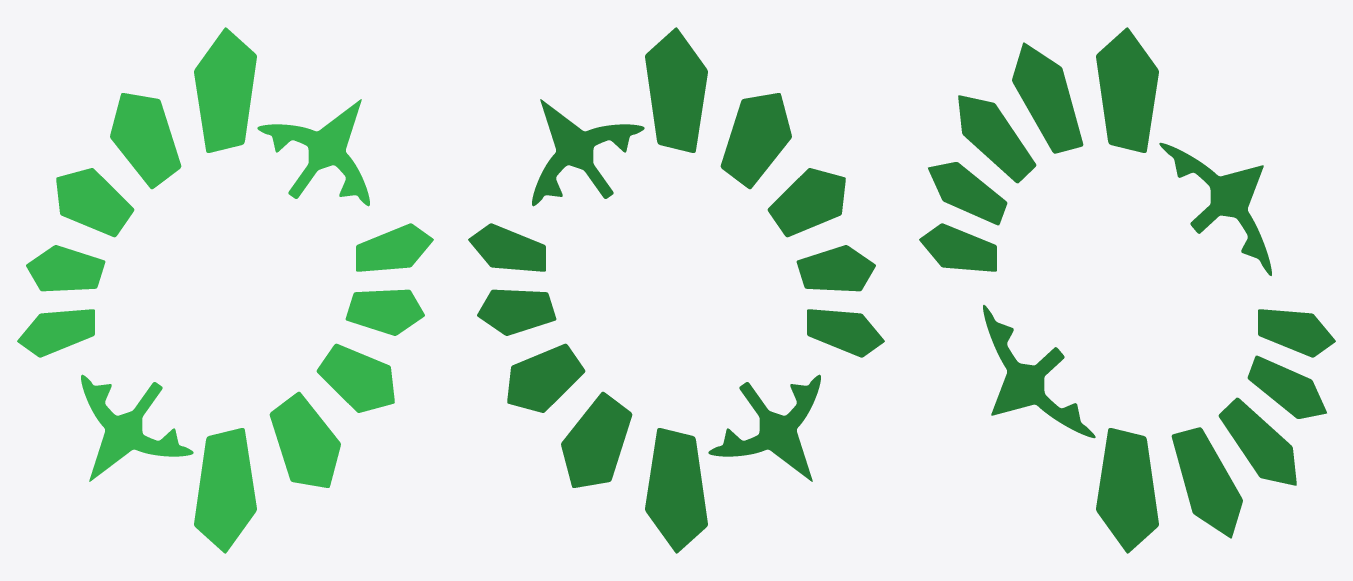
The model's file is Mark.fbx.
The picture shows the model from 3 angles, left to right: view 1: azimuth 30°, elevation 25°; view 2: azimuth 150°, elevation 25°; view 3: azimuth 330°, elevation 25°; orthographic projection.
Parts seen in each view (by area): view 1: Frame; view 2: Frame; view 3: Frame.
Part boxes in pixels (<box>): Frame: <box>17,27,433,553</box>; Frame: <box>468,27,884,553</box>; Frame: <box>919,27,1335,553</box>.
Bounding box in the file's own units: 404 × 489 × 0.00607.
1 material, 1 textured.
